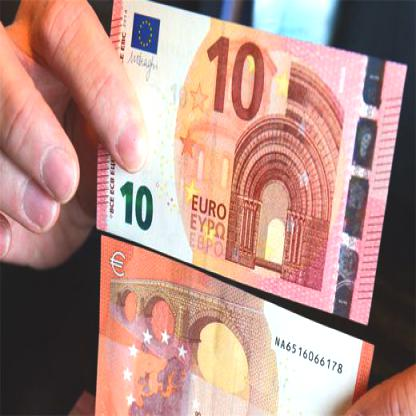euro_banknote: (98, 15, 397, 314)
